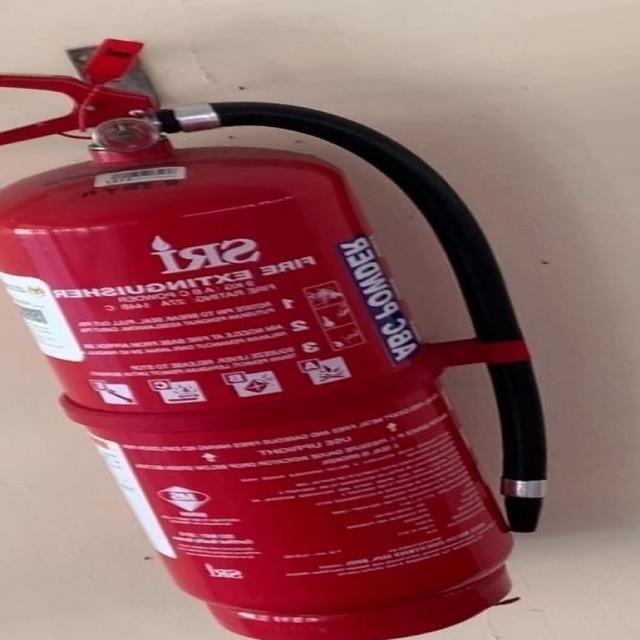fire_extinguisher: (0, 36, 558, 639)
